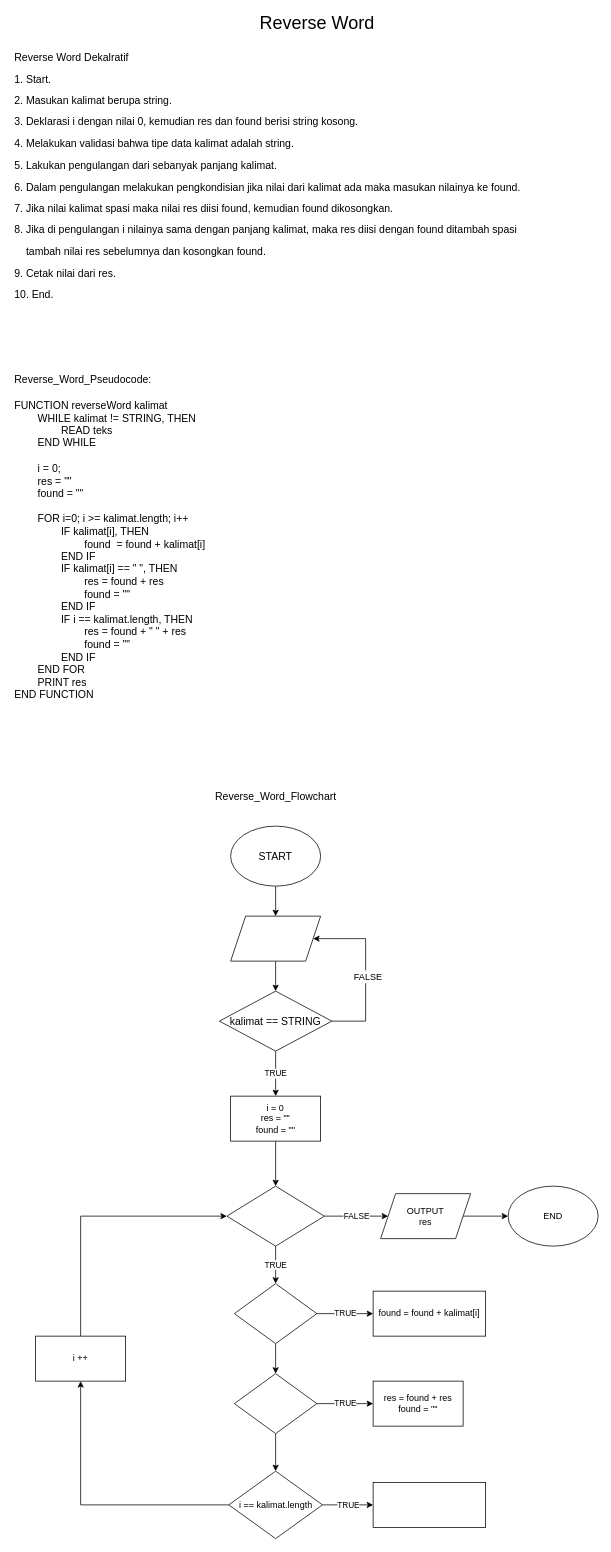
Image size: 611x1552. Some labels were removed from this diagram. Each missing label, with the centre of its shape:
i <= kalimat.length: the point at 275,1215
INPUT kalimat: the point at 275,938
kalimat[i]: the point at 275,1313
kalimat[i] == " ": the point at 275,1403
res = found + " " + res found = "": the point at 429,1504
